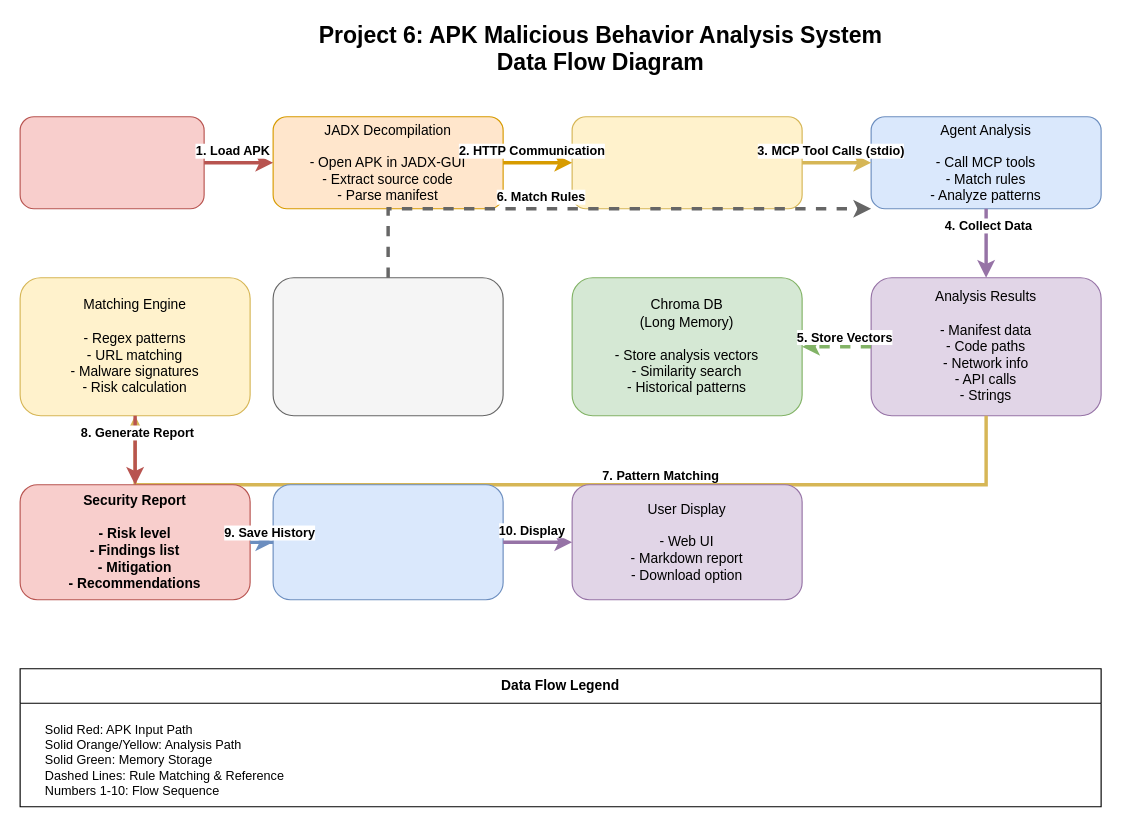
This 1121x827 diagram has some shape labels left out. The centre of each missing label's shape, as x and y in pixels:
"APK File User uploads or provides path" belongs at (111,162).
"History Manager - Save analysis - Load previous - Track tokens" belongs at (387,542).
"MCP Server - Expose JADX tools - Handle tool calls - Return analysis data" belongs at (686,162).
"Rule Base - Package rules - URL blacklist - Custom rules - Malware patterns" belongs at (387,346).
